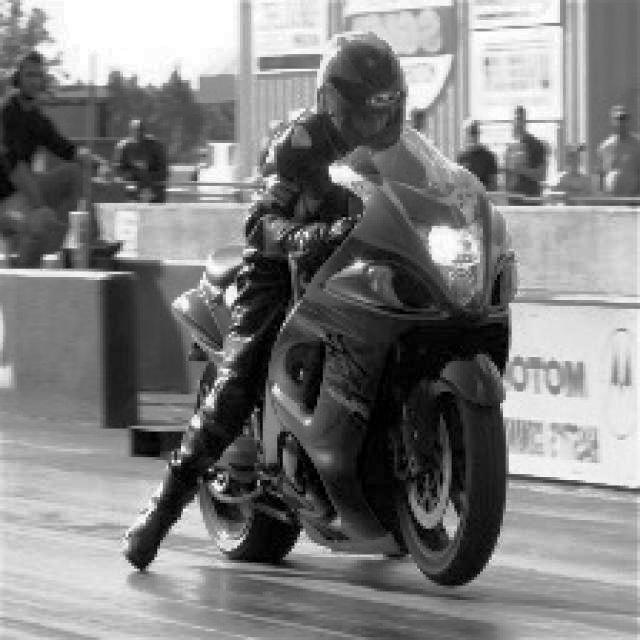Bike: (258, 158, 508, 602)
